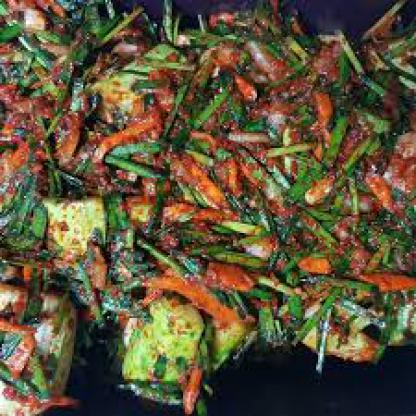cucumber kimchi: (0, 19, 414, 386)
